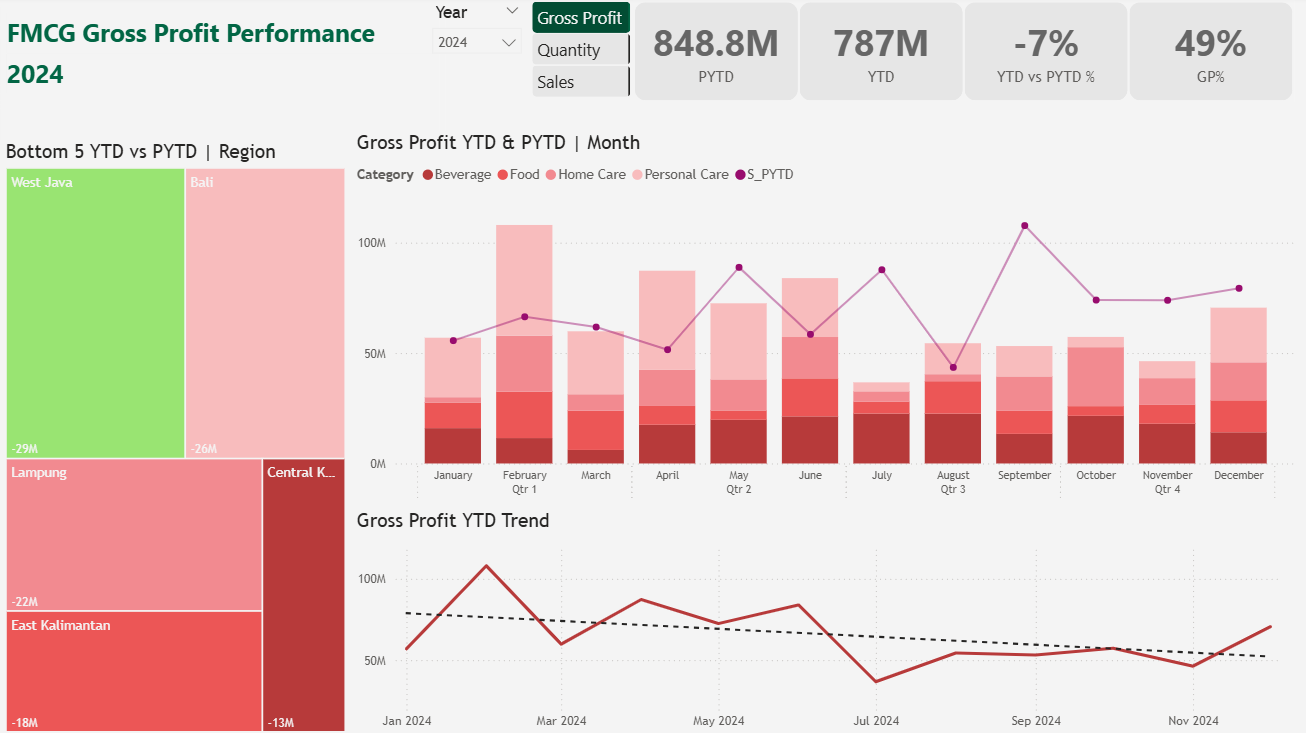

Layout of this report page (visuals, bound fields, positions):
{"tool":"powerbi","page":{"name":"Performance Report - 1","canvas":[1280,720],"ordinal":0},"visuals":[{"type":"cardVisual","fields":{"Data":["_New__Measures._New_Report Title","_New__Measures._New_Report Title 2"]},"box":[4.8,11.2,431.8,129.1],"z":0},{"type":"cardVisual","fields":{"Data":["_New__Measures.New_S_PYTD","_New__Measures.New_S_YTD","_Measures.YTD vs PYTD %","_New__Measures.New GP%"]},"box":[613.3,0,652.6,109],"z":1000},{"type":"advancedSlicerVisual","fields":{"Values":["New_Slc_Values.Column1"]},"box":[514.7,1.6,105.2,103.6],"z":2000},{"type":"slicer","fields":{"Values":["Dim_Date.Date.Variation.Date Hierarchy.Year"]},"box":[412.7,1.6,106.8,103.6],"z":3000},{"type":"lineStackedColumnComboChart","fields":{"Y":["_Measures.S_YTD"],"Y2":["_Measures.S_PYTD"],"Series":["Dim_Product.Category"],"Category":["Dim_Date.Date.Variation.Date Hierarchy.Quarter","Dim_Date.Date.Variation.Date Hierarchy.Month"]},"box":[345,132.5,921.4,366.8],"z":4000},{"type":"lineChart","fields":{"Y":["_Measures.S_YTD"],"Category":["Dim_Date.MonthStart.Variation.Date Hierarchy.Year","Dim_Date.MonthStart.Variation.Date Hierarchy.Quarter","Dim_Date.MonthStart.Variation.Date Hierarchy.Month","Dim_Date.MonthStart.Variation.Date Hierarchy.Day"]},"box":[345,499.3,921.4,221.2],"z":5000},{"type":"treemap","title":"Bottom 5 YTD vs PYTD | Region","fields":{"Group":["Dim_Region.Region"],"Values":["_Measures.YTD vs PYTD"]},"box":[4.5,140.8,339.2,578.4],"z":6000}]}

Visuals, with their boxes in screenshot pixels (x1, y1, x2, y2), scaled from the page's 1280x720 canvas onto the 1306x733 screenshot:
cardVisual - _New__Measures._New_Report Title x _New__Measures._New_Report Title 2: select_region(5, 11, 445, 143)
cardVisual - _New__Measures.New_S_PYTD x _New__Measures.New_S_YTD: select_region(626, 0, 1292, 111)
advancedSlicerVisual - New_Slc_Values.Column1: select_region(525, 2, 632, 107)
slicer - Dim_Date.Date.Variation.Date Hierarchy.Year: select_region(421, 2, 530, 107)
lineStackedColumnComboChart - _Measures.S_YTD x _Measures.S_PYTD: select_region(352, 135, 1292, 508)
lineChart - _Measures.S_YTD x Dim_Date.MonthStart.Variation.Date Hierarchy.Year: select_region(352, 508, 1292, 732)
"Bottom 5 YTD vs PYTD | Region" treemap: select_region(5, 143, 351, 732)
